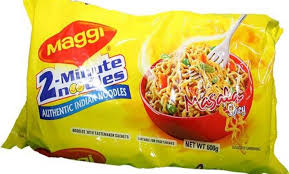maggie: (23, 2, 283, 174)
